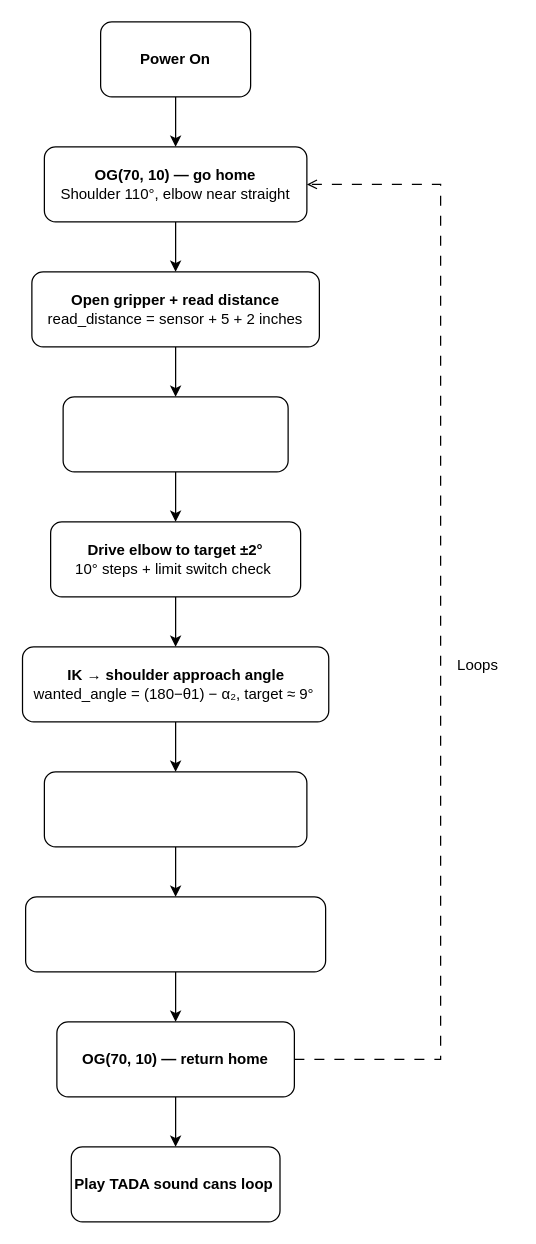
Some shapes in this 536 by 1244 pixel diagram are drawn without their labels. The box of each missing label's shape, as (x1, y1, x2, y2) in pixels:
Close gripper → retract → release has_can(): shoulder back, elbow straight: (24, 896, 326, 972)
Drive shoulder to wanted_angle ≈ 9° 50° steps + limit switch check: (43, 771, 307, 847)
IK → elbow target angle cos θ₂ = (l1²+l2²−d²) / (2·l1·l2): (62, 396, 288, 472)
